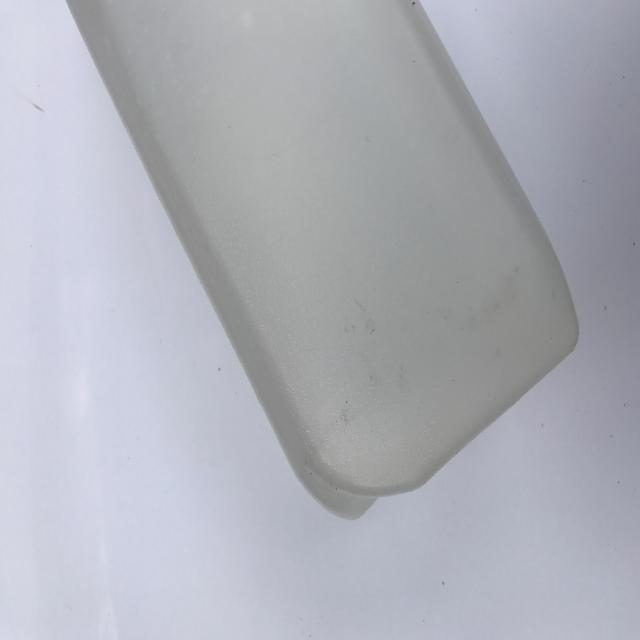plastic: (62, 0, 580, 521)
